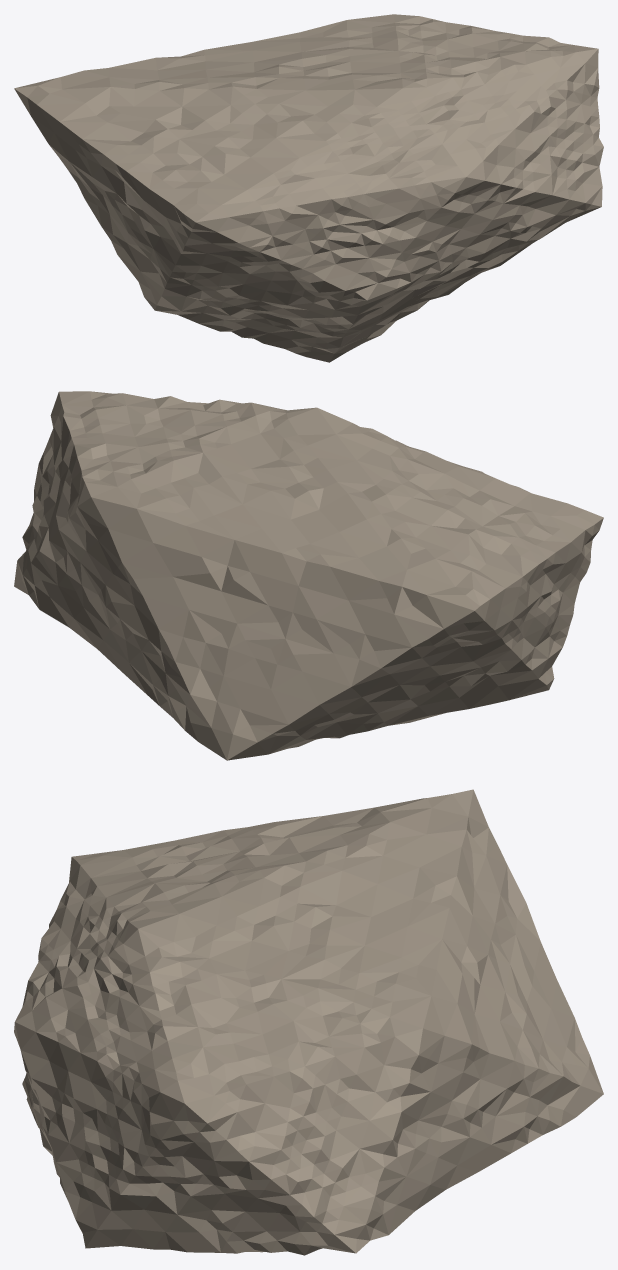
The model's file is SM_GorgeRock_C.fbx.
The picture shows the model from 3 angles, top to bottom: view 1: azimuth 30°, elevation 25°; view 2: azimuth 150°, elevation 25°; view 3: azimuth 270°, elevation 25°; orthographic projection. The views are drawn at different scales.
Parts seen in each view (by area): view 1: SM_GorgeRock_C; view 2: SM_GorgeRock_C; view 3: SM_GorgeRock_C.
Boxes of the visible parts, x1,y1,x2,y2 form: SM_GorgeRock_C: [14, 14, 603, 362]; SM_GorgeRock_C: [14, 391, 603, 760]; SM_GorgeRock_C: [14, 789, 603, 1255].
Size of the model in its own units: 8.8 by 4.55 by 6.95.
